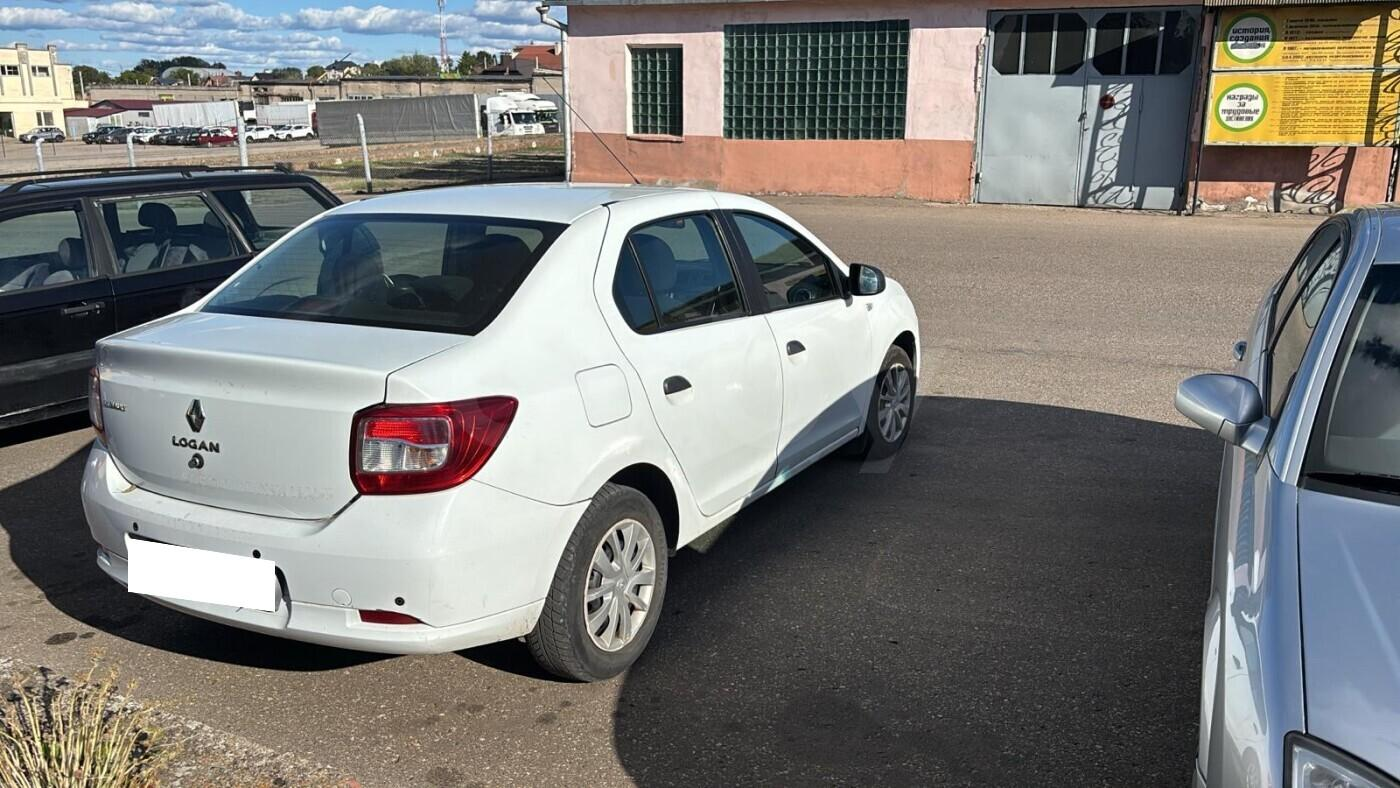Logan_2018: (79, 185, 920, 671)
